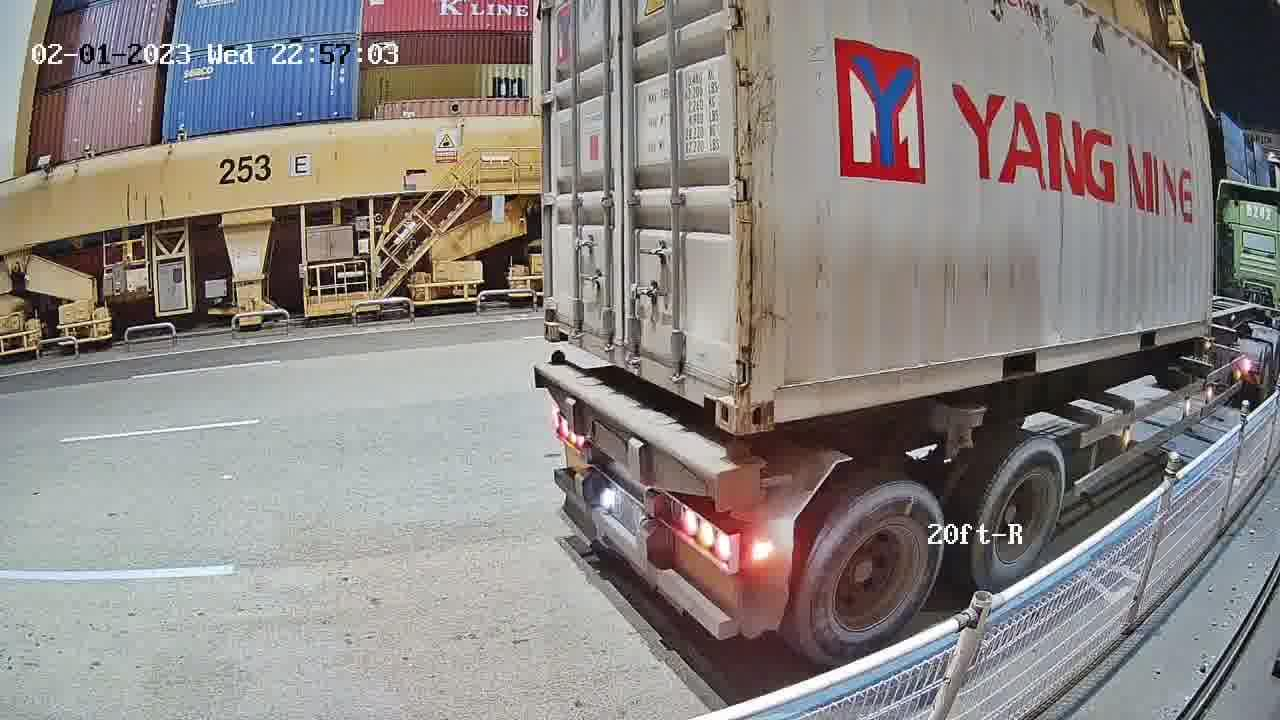Chassis: (536, 360, 757, 500)
Cone: (722, 441, 759, 510), (545, 351, 566, 364)
Hole_L: (736, 352, 815, 436), (543, 301, 577, 349)
Hole_R: (690, 346, 739, 435)
Tire: (798, 481, 944, 666), (972, 438, 1066, 594)
